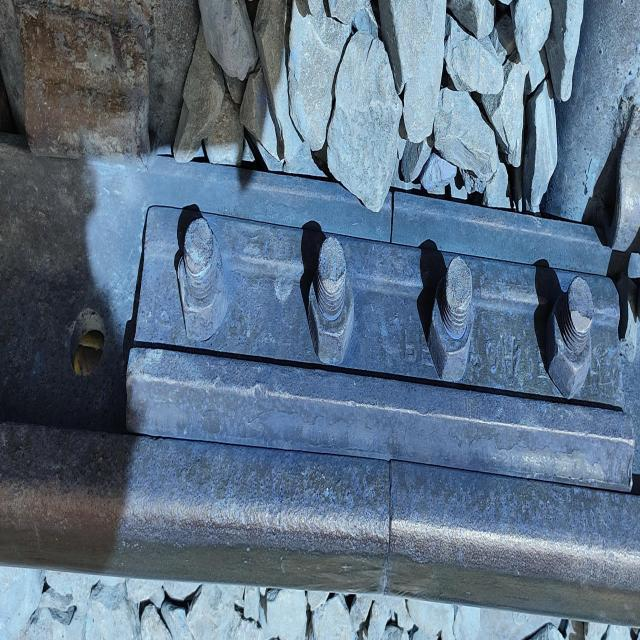Good Joint: (124, 206, 633, 490)
